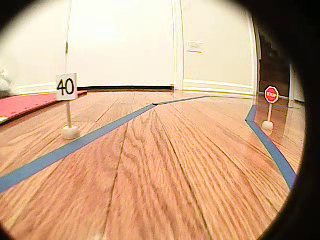Speed Limit 40: (54, 72, 79, 99)
Stop Sign: (263, 85, 279, 103)
